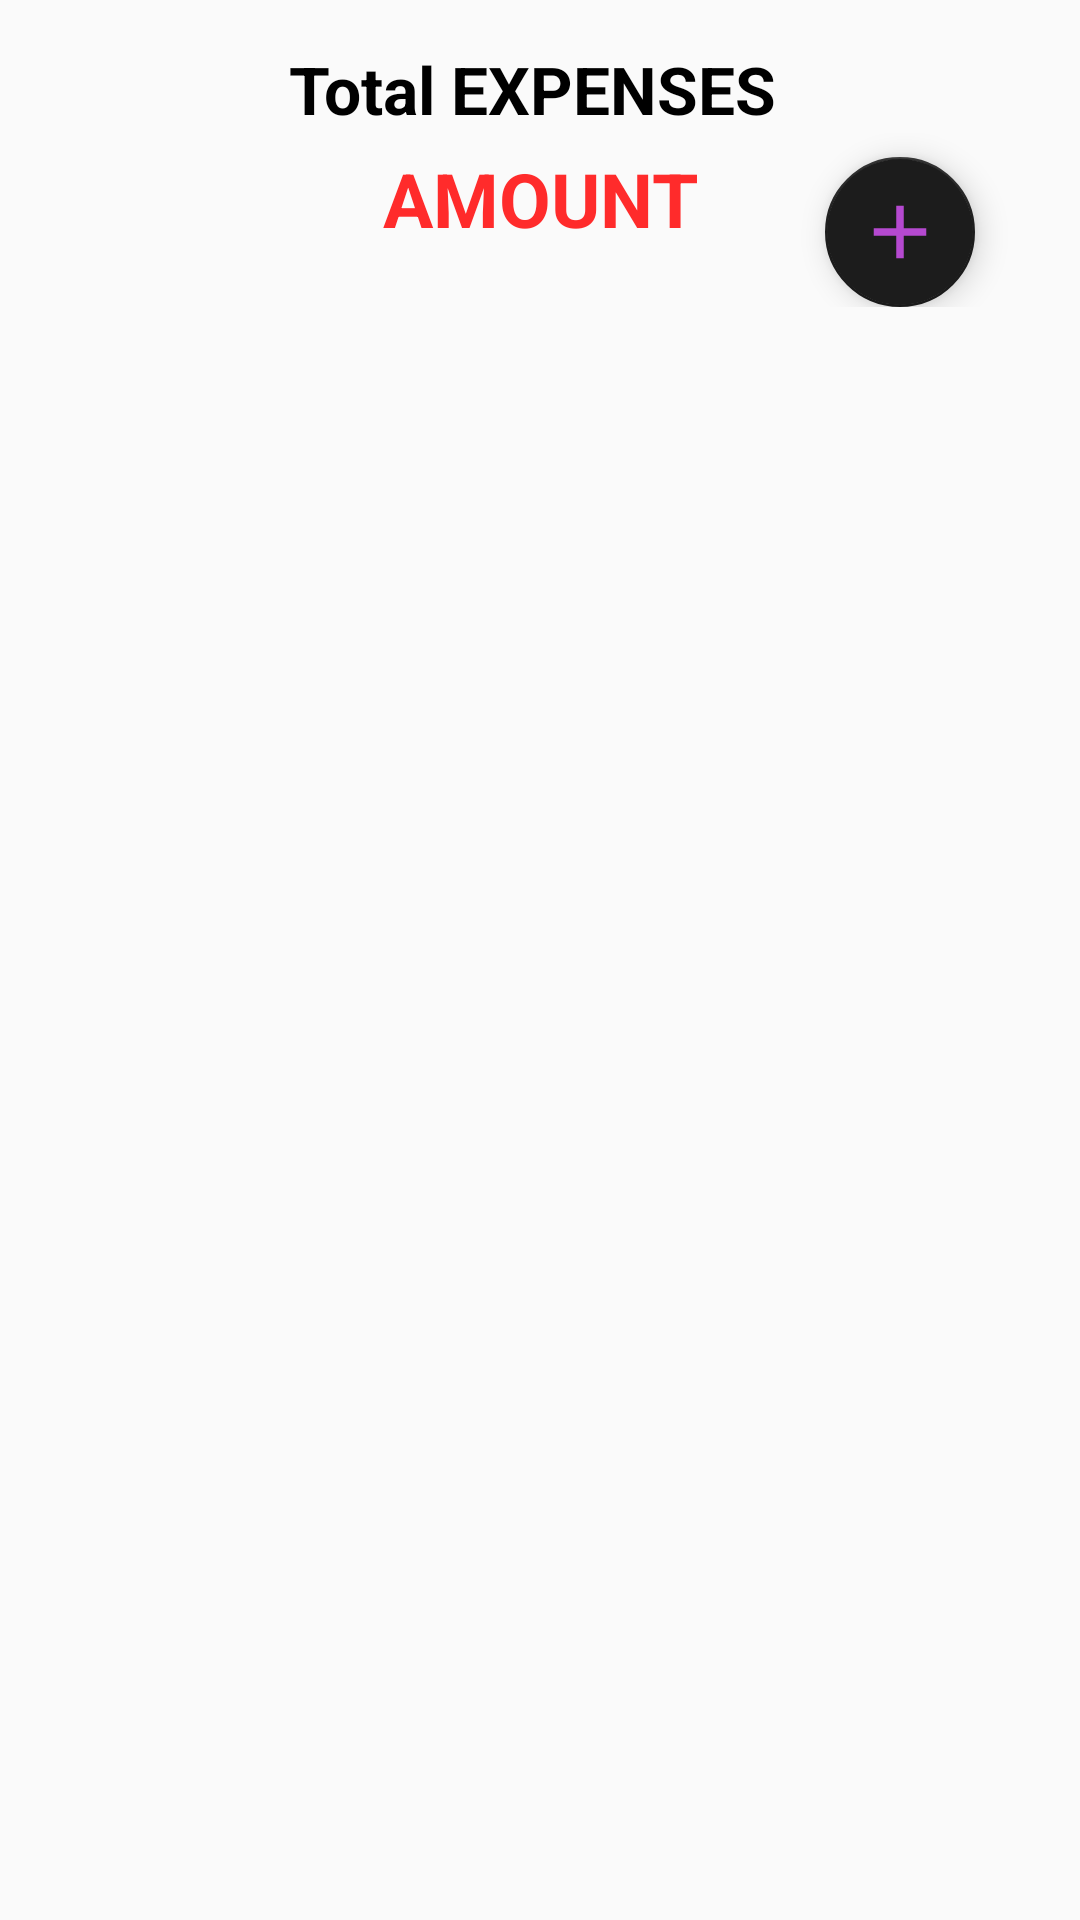

Point at icon controls on the screen. Image size 1080x1920, points as point (x, y).
add: point (900, 232)
